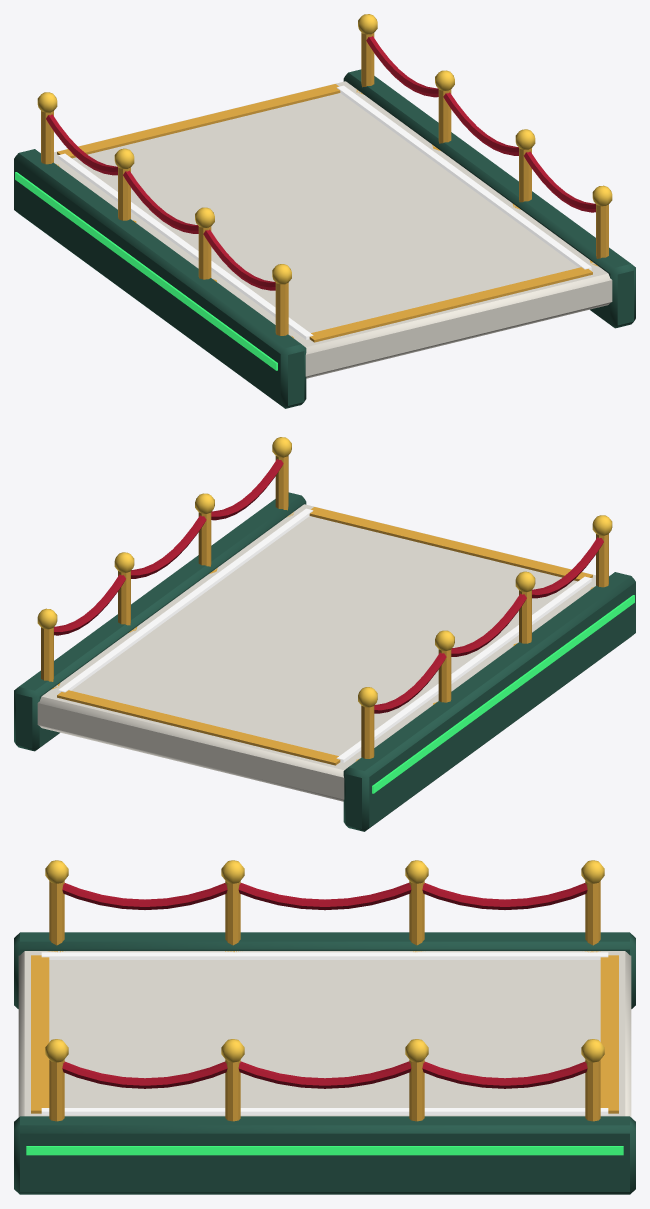
Rendered from bridge.glb.
3 views of the same model, one above another, from view 1: azimuth 30°, elevation 25°; view 2: azimuth 150°, elevation 25°; view 3: azimuth 270°, elevation 25° (orthographic). The views are drawn at different scales.
Parts seen in each view (by area): view 1: bridge, team_glow; view 2: bridge, team_glow; view 3: bridge, team_glow.
Part boxes in pixels (bbox=[...]): bridge: bbox=[14, 14, 635, 408]; team_glow: bbox=[58, 85, 591, 339]; bridge: bbox=[14, 437, 635, 831]; team_glow: bbox=[58, 508, 591, 762]; bridge: bbox=[14, 860, 635, 1194]; team_glow: bbox=[41, 952, 608, 1115].
Bounding box in the file's own units: 3.09 × 1.06 × 4.06.
Materials: 2 (2 with a texture image).
